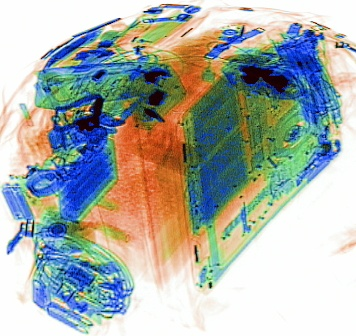powerbank: (56, 136, 120, 221)
